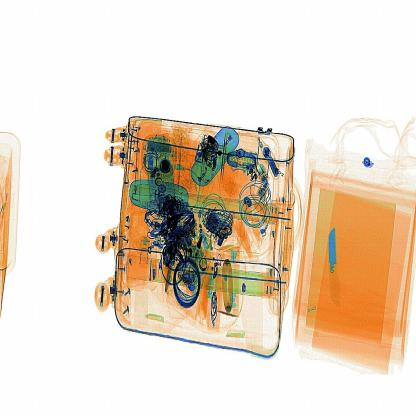wrench: (324, 224, 342, 307)
